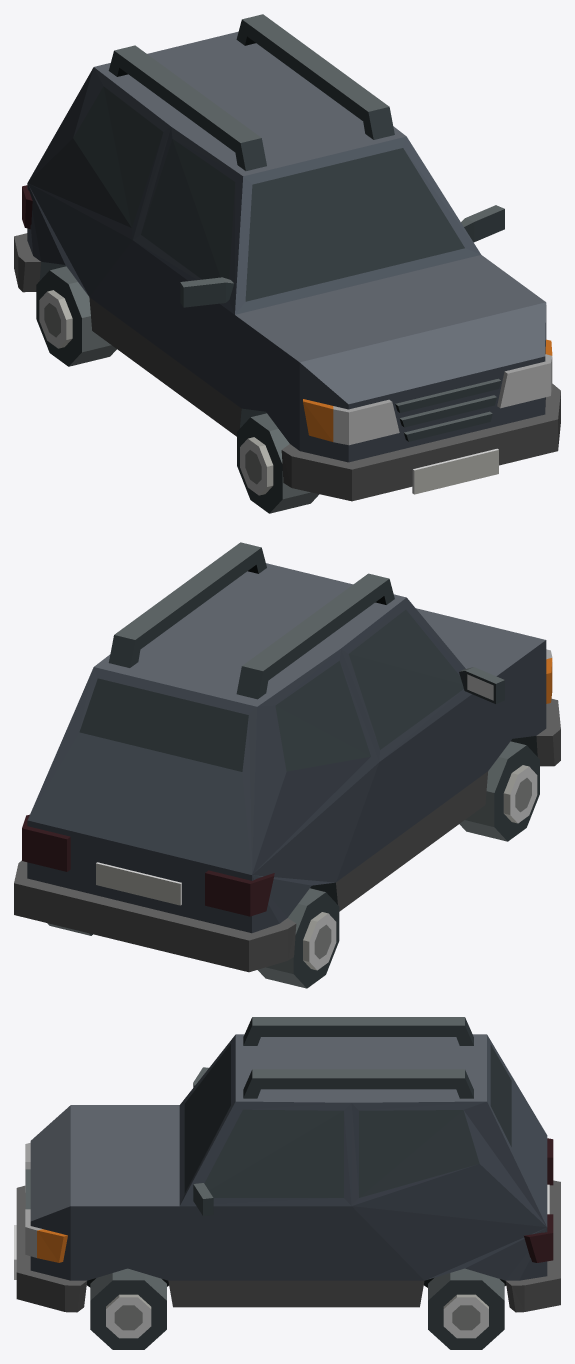
Rendered from TB_CITY_Car_SUV_C.FBX.
3 renders of one model, top to bottom at view 1: azimuth 30°, elevation 25°; view 2: azimuth 150°, elevation 25°; view 3: azimuth 270°, elevation 25°, orthographic. The views are drawn at different scales.
Visible parts, largest first — view 1: TB_CITY_Car_SUV_C, TB_Car_SUV_Wheel012, TB_Car_SUV_Wheel009; view 2: TB_CITY_Car_SUV_C, TB_Car_SUV_Wheel009, TB_Car_SUV_Wheel012; view 3: TB_CITY_Car_SUV_C, TB_Car_SUV_Wheel010, TB_Car_SUV_Wheel011.
Boxes of the visible parts, <box> form: TB_CITY_Car_SUV_C: <box>14,14,560,501</box>; TB_Car_SUV_Wheel012: <box>36,266,116,366</box>; TB_Car_SUV_Wheel009: <box>237,413,319,513</box>; TB_CITY_Car_SUV_C: <box>14,542,560,972</box>; TB_Car_SUV_Wheel009: <box>459,741,539,841</box>; TB_Car_SUV_Wheel012: <box>258,888,339,988</box>; TB_CITY_Car_SUV_C: <box>14,1017,560,1312</box>; TB_Car_SUV_Wheel010: <box>428,1268,504,1349</box>; TB_Car_SUV_Wheel011: <box>90,1268,166,1349</box>.
Size of the model in its own units: 4.12 by 3.64 by 7.23.
